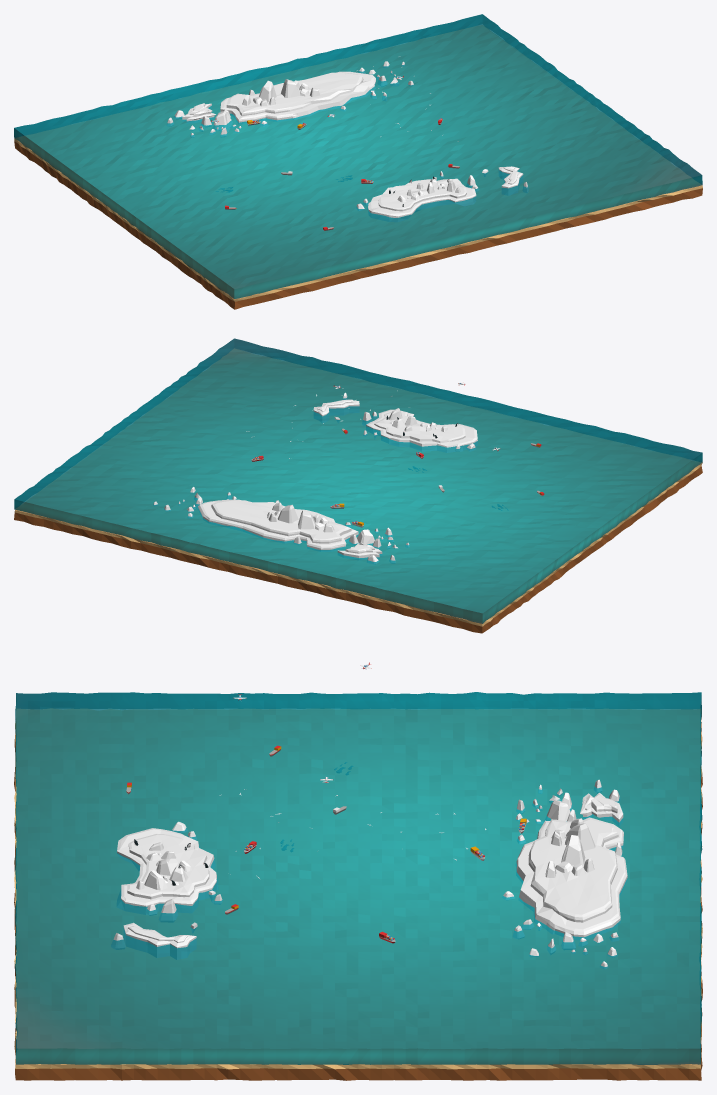
3 views of the same model, one above another, from view 1: azimuth 30°, elevation 25°; view 2: azimuth 150°, elevation 25°; view 3: azimuth 270°, elevation 25° (orthographic). The views are drawn at different scales.
Parts seen in each view (by area): view 1: Water_2_Water_0, Ground_4_World ap_0, Planet_2_World ap_0, Planet_3_World ap_0, Planet_4_World ap_0, Planet_1_World ap_0, Icebourg_World ap_0, Icebourg_6_World ap_0, Icebourg_4_World ap_0; view 2: Water_2_Water_0, Ground_4_World ap_0, Planet_2_World ap_0, Planet_3_World ap_0, Planet_4_World ap_0, Planet_1_World ap_0, Icebourg_World ap_0, Icebourg_4_World ap_0; view 3: Water_2_Water_0, Ground_4_World ap_0, Planet_2_World ap_0, Planet_3_World ap_0, Planet_4_World ap_0, Planet_1_World ap_0, Icebourg_World ap_0, Icebourg_6_World ap_0, Icebourg_1_World ap_0, Icebourg_2_World ap_0, Icebourg_3_World ap_0, Icebourg_4_World ap_0.
Boxes of the visible parts, box(x1,y1,x2,y2) form: Water_2_Water_0: box(14, 14, 702, 298); Ground_4_World ap_0: box(14, 25, 702, 309); Planet_2_World ap_0: box(189, 72, 363, 116); Planet_3_World ap_0: box(182, 71, 375, 123); Planet_4_World ap_0: box(367, 167, 523, 221); Planet_1_World ap_0: box(378, 166, 517, 211); Icebourg_World ap_0: box(167, 89, 267, 137); Icebourg_6_World ap_0: box(281, 79, 320, 97); Icebourg_4_World ap_0: box(242, 80, 276, 106); Water_2_Water_0: box(14, 338, 702, 623); Ground_4_World ap_0: box(14, 349, 702, 633); Planet_2_World ap_0: box(211, 500, 374, 553); Planet_3_World ap_0: box(198, 499, 382, 559); Planet_4_World ap_0: box(313, 400, 477, 452); Planet_1_World ap_0: box(317, 399, 465, 443); Icebourg_World ap_0: box(293, 522, 409, 563); Icebourg_4_World ap_0: box(298, 510, 334, 532); Water_2_Water_0: box(15, 692, 702, 1064); Ground_4_World ap_0: box(14, 708, 702, 1080); Planet_2_World ap_0: box(528, 794, 618, 922); Planet_3_World ap_0: box(516, 792, 627, 939); Planet_4_World ap_0: box(117, 828, 217, 959); Planet_1_World ap_0: box(127, 834, 209, 942); Icebourg_World ap_0: box(516, 779, 622, 855); Icebourg_6_World ap_0: box(545, 835, 594, 877); Icebourg_1_World ap_0: box(502, 891, 618, 968); Icebourg_2_World ap_0: box(111, 821, 222, 949); Icebourg_3_World ap_0: box(144, 858, 191, 890); Icebourg_4_World ap_0: box(551, 818, 595, 850).
Bounding box in the file's own units: 31.77 × 6.58 × 25.93.
24 materials, 24 textured.
